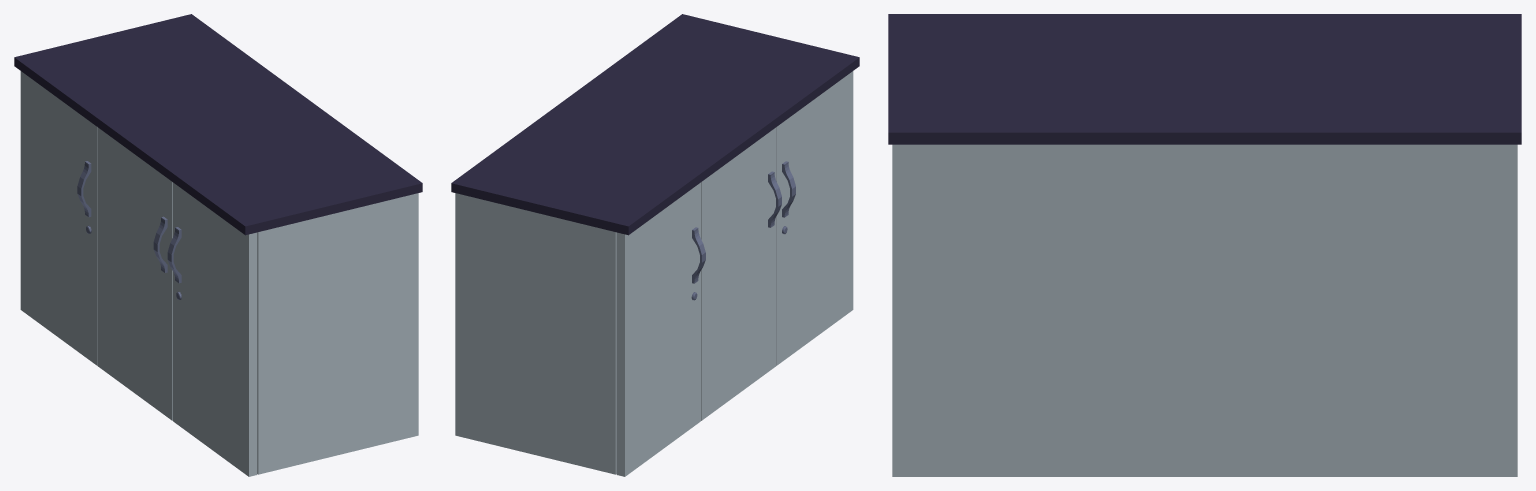
File: ArmarioL1_MatiasB_46876640.fbx
3 renders of one model, left to right at view 1: azimuth 30°, elevation 25°; view 2: azimuth 150°, elevation 25°; view 3: azimuth 270°, elevation 25°, orthographic. The views are drawn at different scales.
Parts seen in each view (by area): view 1: Mueble, PuertaDerecha, PuertaIzquierda, PuertaMedio; view 2: Mueble, PuertaIzquierda, PuertaDerecha, PuertaMedio; view 3: Mueble.
Boxes of the visible parts, x1,y1,x2,y2 form: Mueble: (14, 14, 422, 474); PuertaDerecha: (167, 182, 257, 476); PuertaIzquierda: (20, 71, 97, 365); PuertaMedio: (97, 127, 172, 420); Mueble: (451, 14, 859, 474); PuertaIzquierda: (616, 182, 705, 476); PuertaDerecha: (776, 71, 853, 365); PuertaMedio: (701, 127, 781, 420); Mueble: (888, 14, 1521, 476).
Size of the model in its own units: 53.99 by 71.5 by 118.
1 material, 1 textured.
